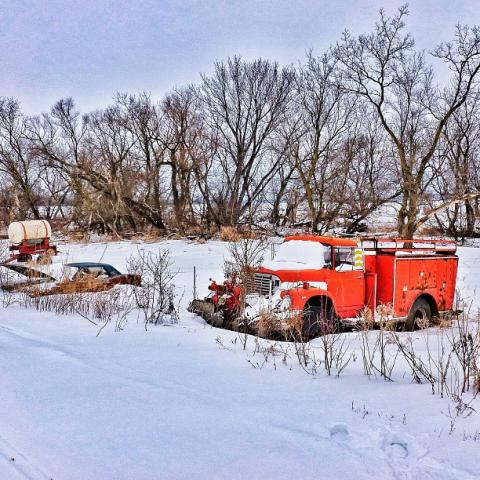car: (32, 263, 142, 295), (3, 264, 60, 293)
truck: (208, 230, 460, 340)
